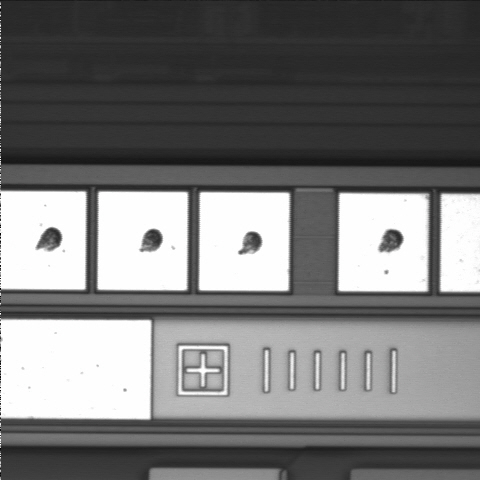pad: (199, 192, 289, 291), (98, 192, 188, 290), (339, 193, 428, 291)
